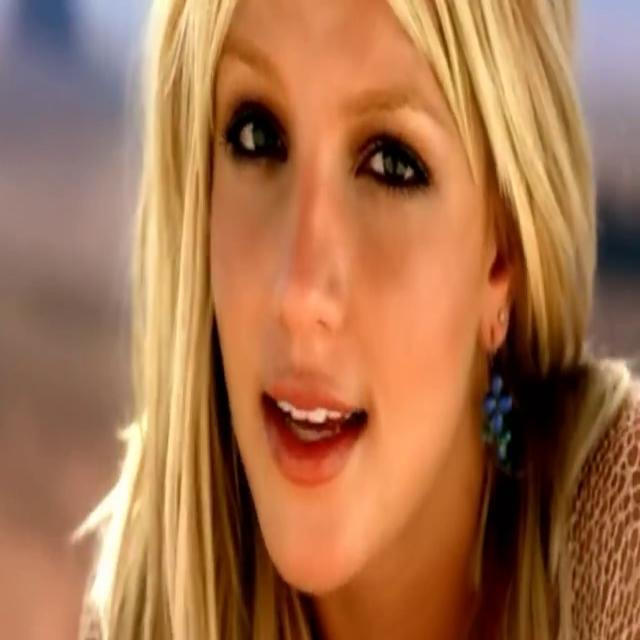human: (106, 1, 594, 640)
